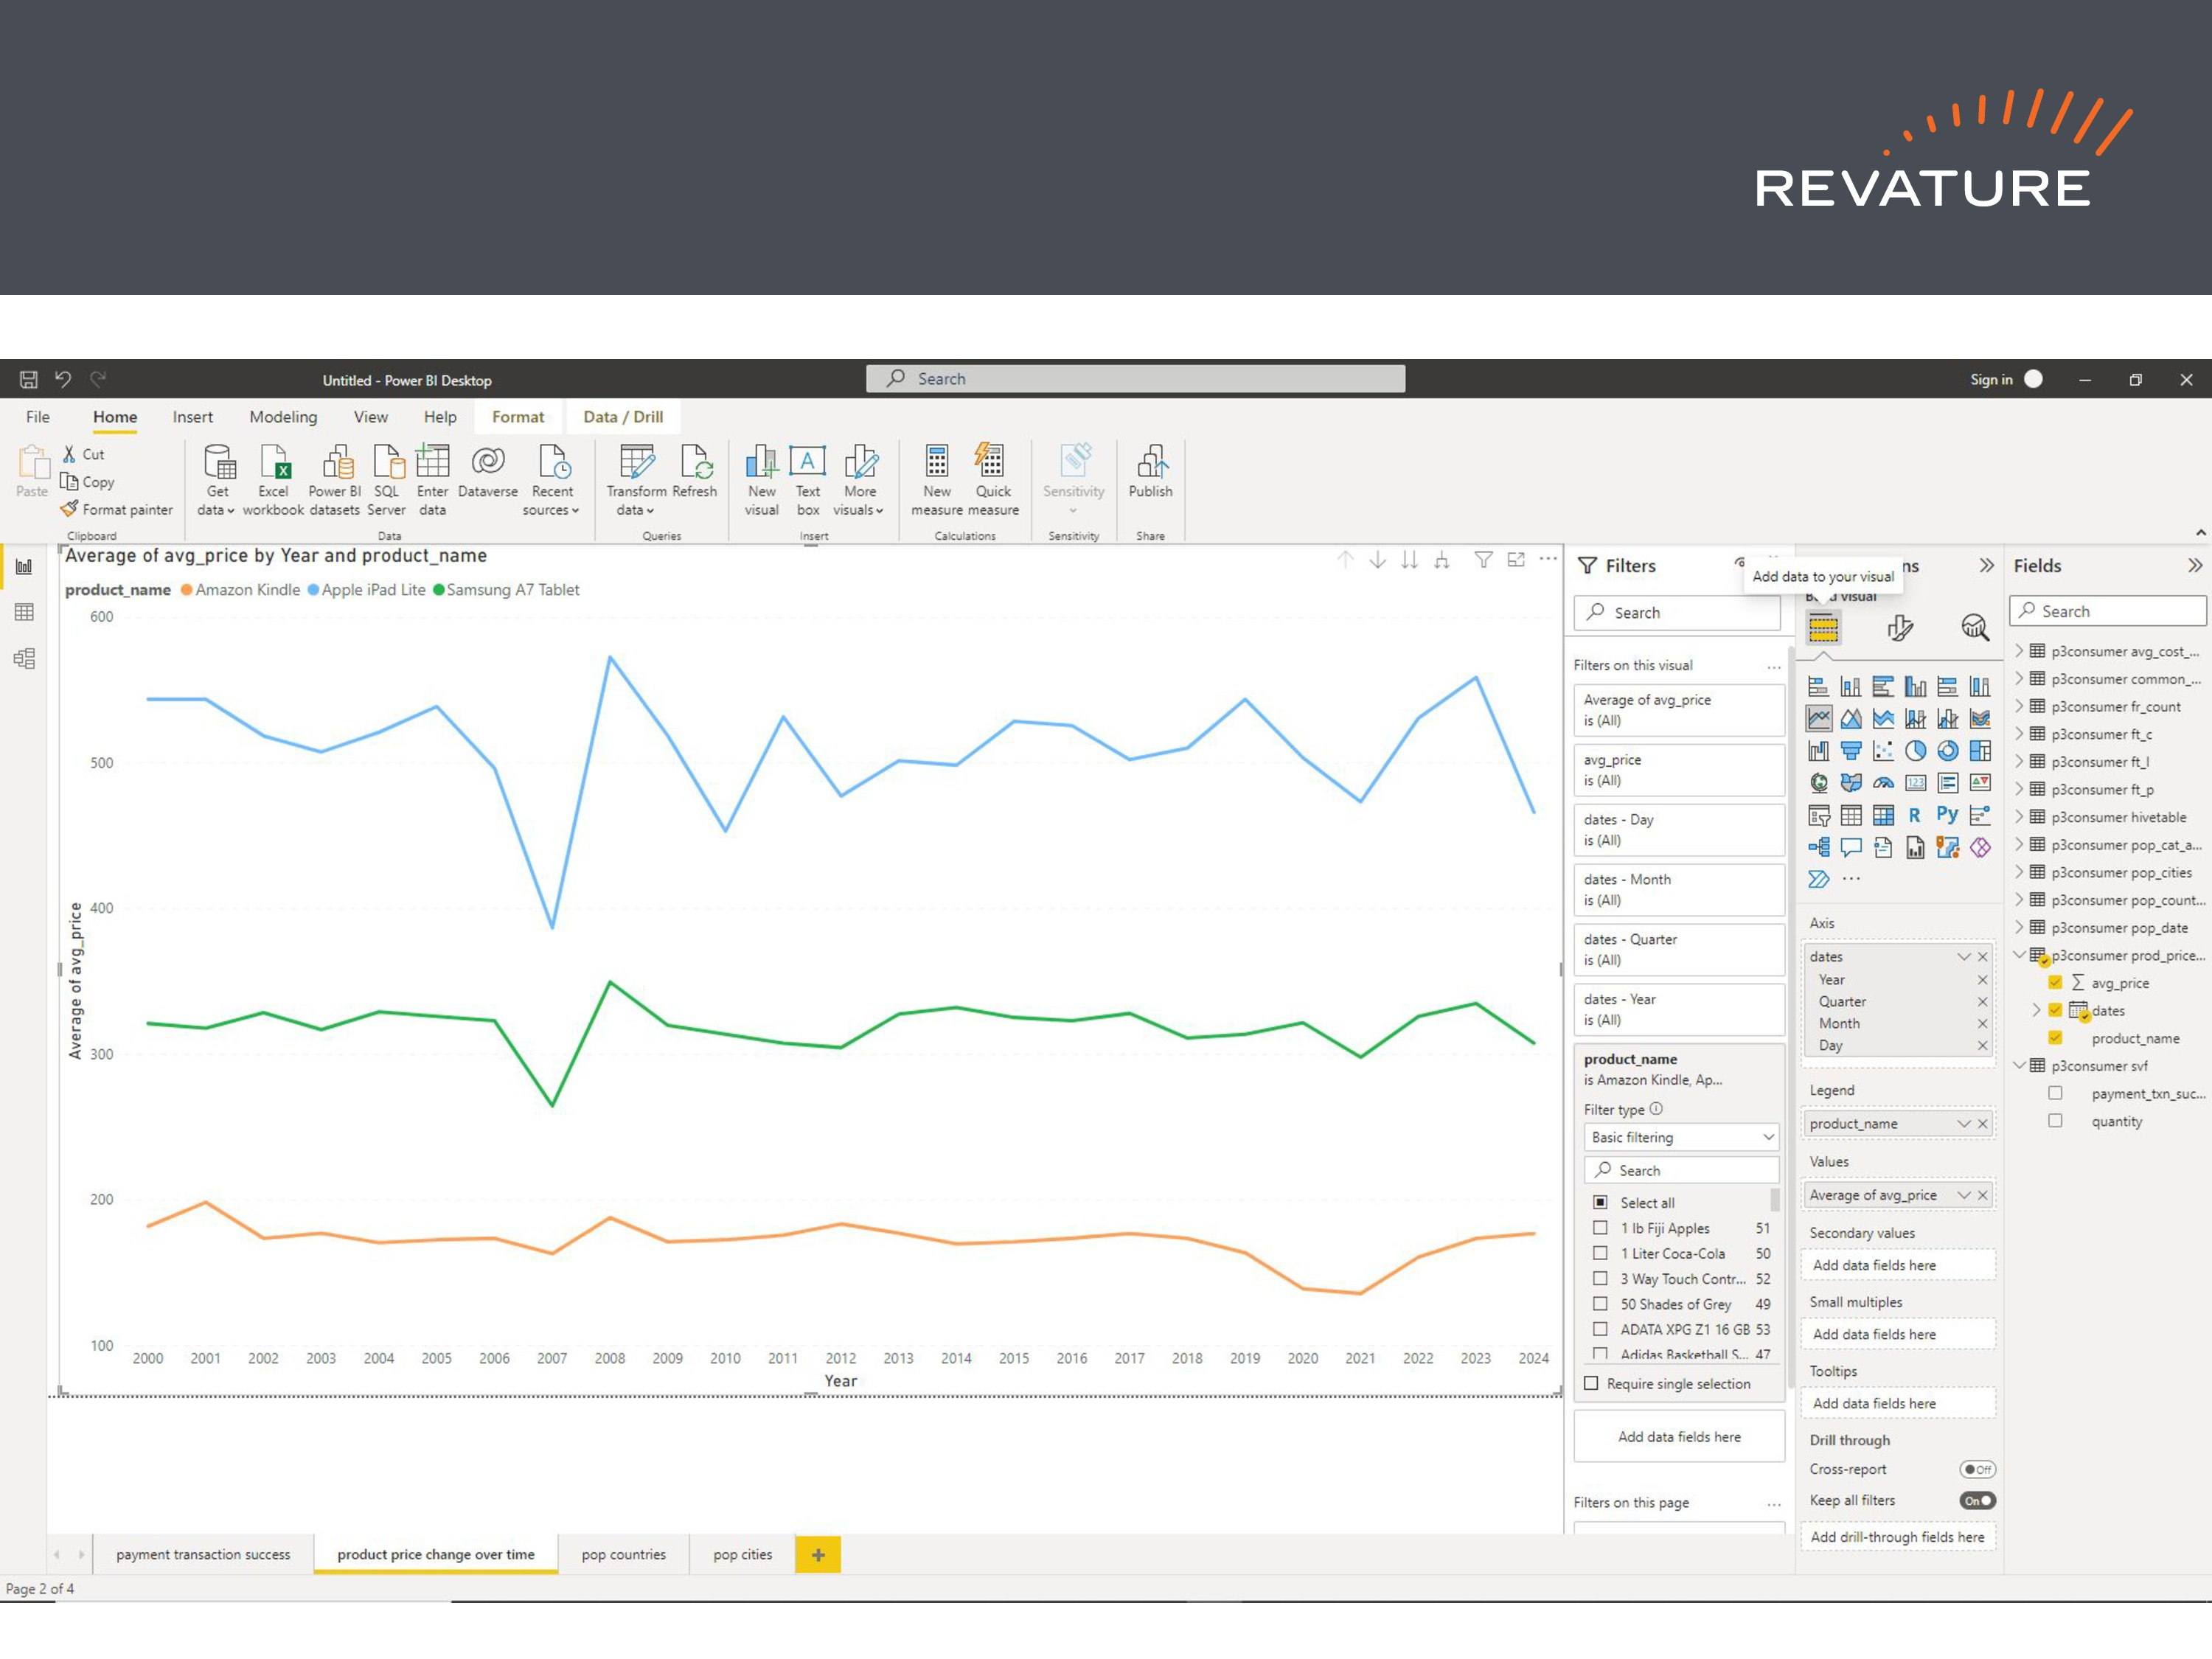

The dashboard page shown, as its layout file describes it:
{"tool":"powerbi","page":{"name":"prod_price_change","canvas":[1280,720],"ordinal":10},"visuals":[{"type":"barChart","title":"Change in Price by Date per Product","fields":{"Y":["Sum(proj3 prod_price_change.avg_price)"],"Rows":["proj3 prod_price_change.product_name"],"Category":["proj3 prod_price_change.dates.Variation.Date Hierarchy.Year","proj3 prod_price_change.dates.Variation.Date Hierarchy.Quarter","proj3 prod_price_change.dates.Variation.Date Hierarchy.Month","proj3 prod_price_change.dates.Variation.Date Hierarchy.Day"]},"box":[10.5,9.4,1269.2,710.6],"z":0}]}

Visuals, with their boxes on the page's 1280x720 design canvas (x1, y1, x2, y2). These are canvas units, not pixel positions in the 2212x1659 screenshot, which may show the page scaled, cropped or inside an application window:
"Change in Price by Date per Product" barChart: left=10, top=9, right=1280, bottom=720
